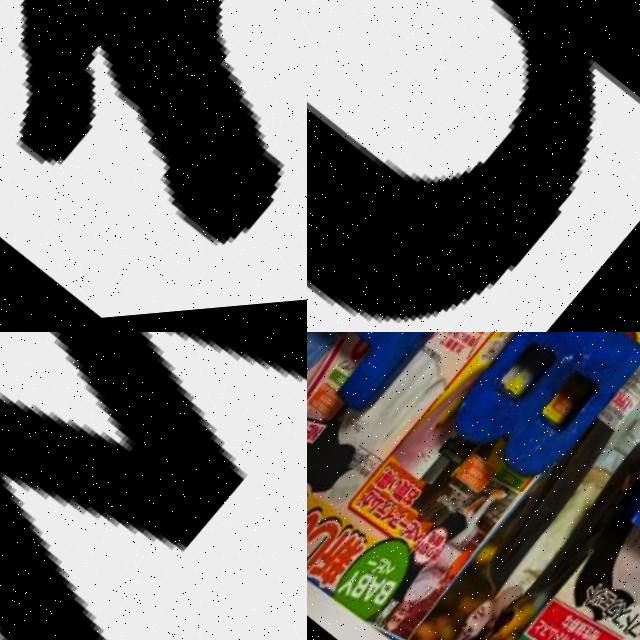B: (440, 332, 640, 504)
N: (307, 0, 640, 332)
T: (307, 332, 486, 420)
U: (0, 0, 307, 319)
W: (0, 332, 307, 640)
